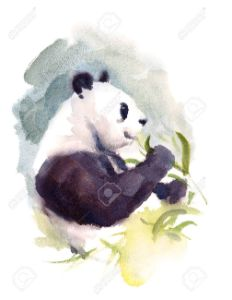bear: (32, 67, 191, 268)
